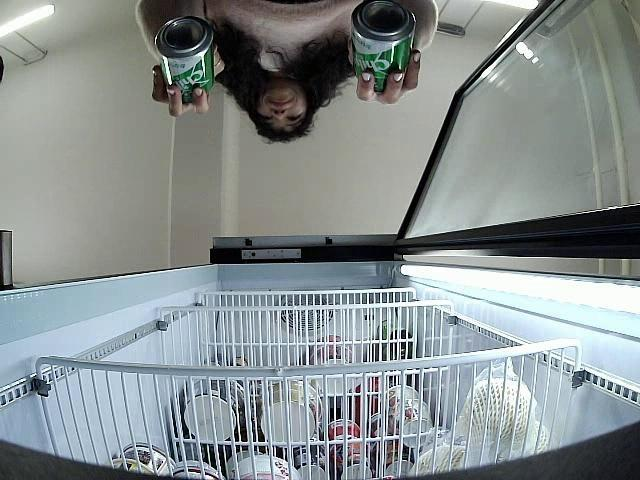12_chilsungCider: (352, 0, 417, 91), (154, 14, 216, 105)
